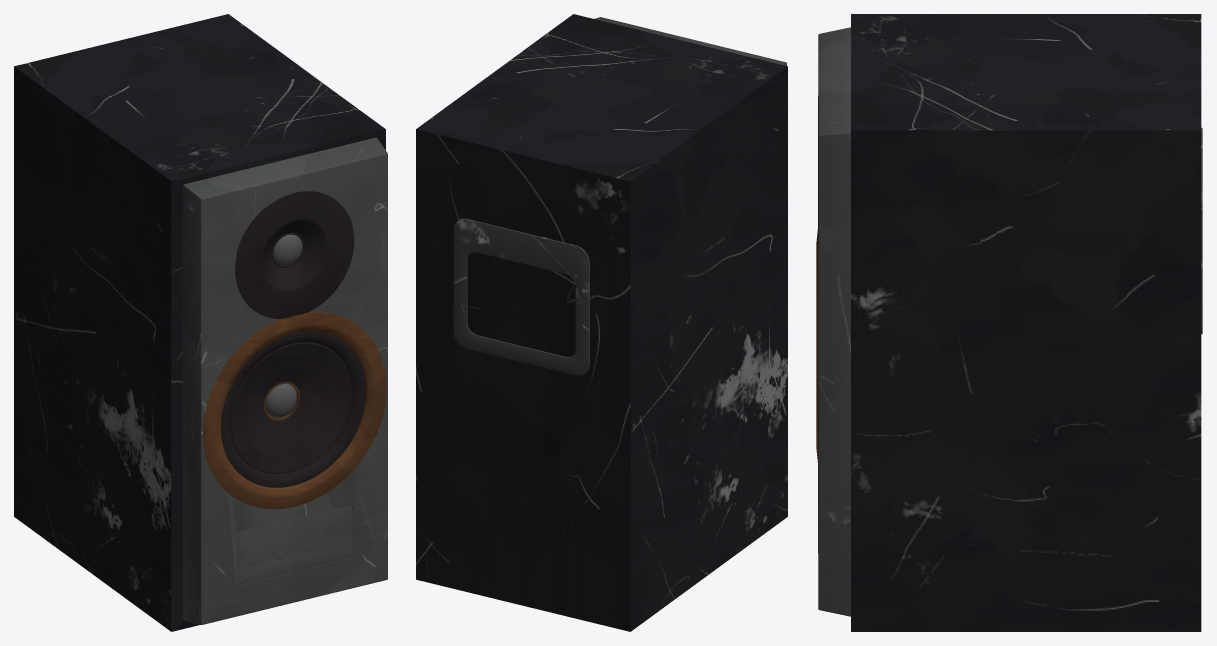
Rendered from olderspeaker.fbx.
3 views of the same model, side by side, from view 1: azimuth 30°, elevation 25°; view 2: azimuth 150°, elevation 25°; view 3: azimuth 270°, elevation 25° (orthographic). The views are drawn at different scales.
Visible parts, largest first — view 1: Speaker; view 2: Speaker; view 3: Speaker.
Boxes of the visible parts, bbox=[...] form: Speaker: bbox=[14, 14, 387, 631]; Speaker: bbox=[416, 14, 787, 631]; Speaker: bbox=[816, 14, 1202, 631].
Bounding box in the file's own units: 291 × 585 × 408.
